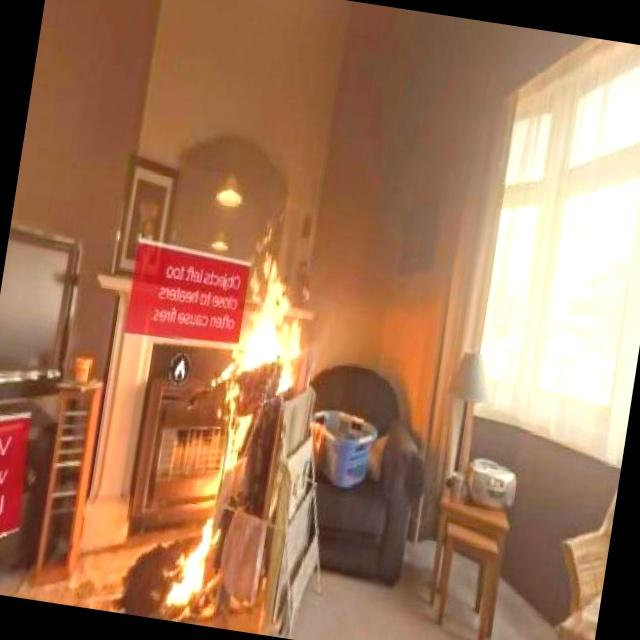fire: (210, 262, 310, 411)
